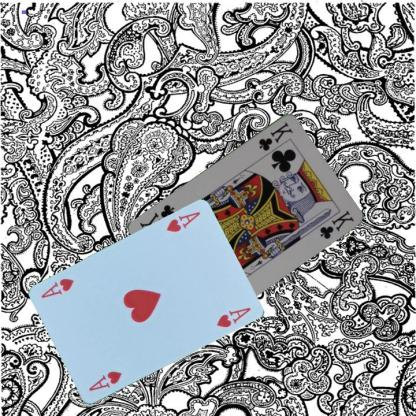Ah: (164, 209, 202, 235), (86, 369, 123, 393)
Kc: (256, 119, 295, 152)
